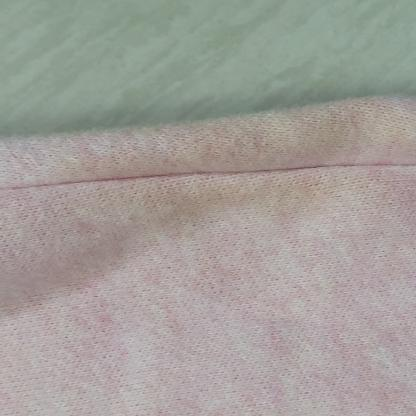spot: (209, 122, 354, 174), (176, 172, 334, 210)
